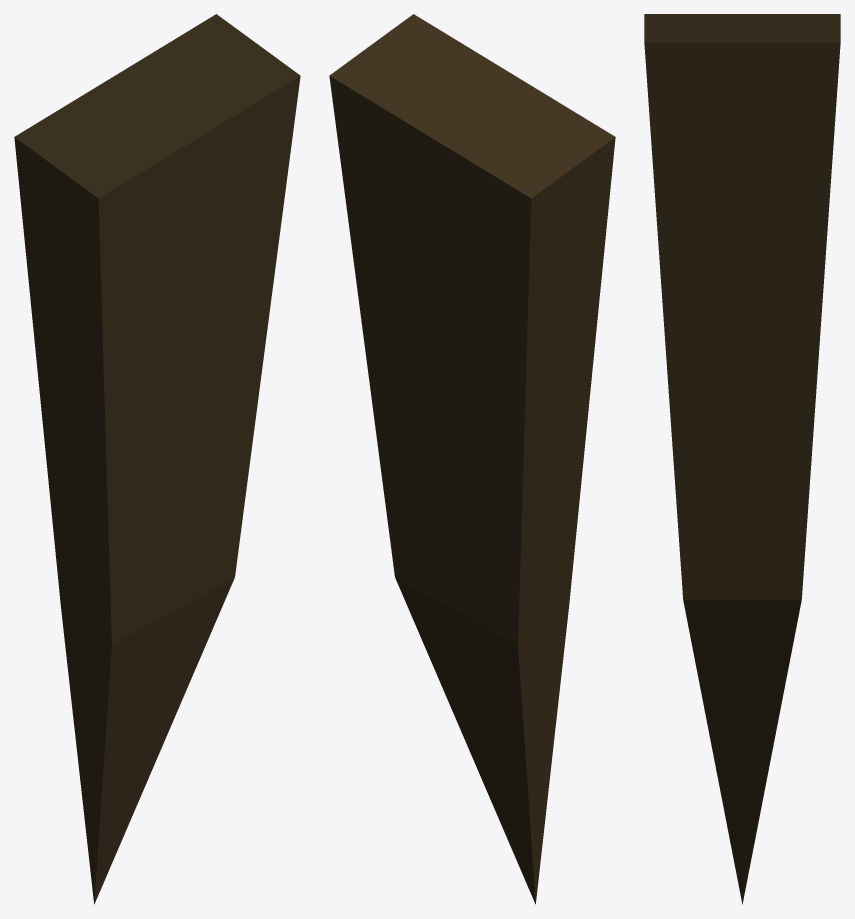
File: EstacaObstaculo.fbx
3 views of the same model, side by side, from view 1: azimuth 30°, elevation 25°; view 2: azimuth 150°, elevation 25°; view 3: azimuth 270°, elevation 25° (orthographic). The views are drawn at different scales.
Visible parts, largest first — view 1: Cube; view 2: Cube; view 3: Cube.
Part boxes in pixels (bbox=[...]): Cube: bbox=[14, 14, 300, 904]; Cube: bbox=[329, 14, 615, 904]; Cube: bbox=[644, 14, 840, 904].
Size of the model in its own units: 83.47 by 324 by 60.26.
